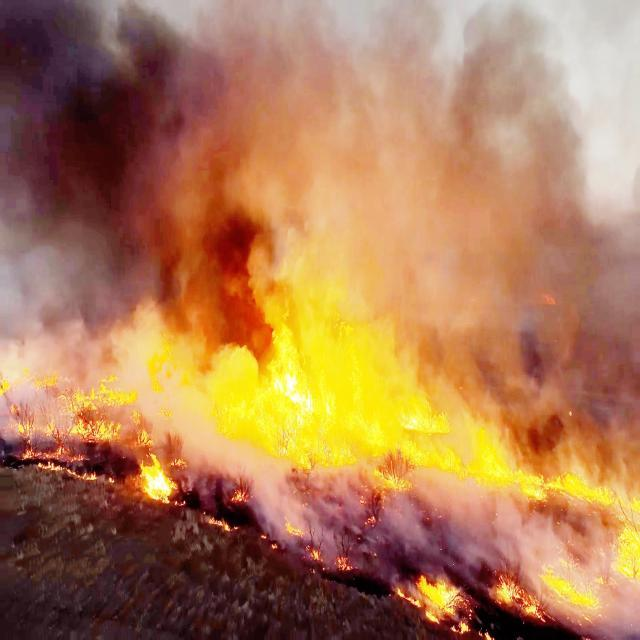Fire: (243, 322, 335, 456), (615, 506, 640, 570)
Smoke: (0, 8, 199, 314)
